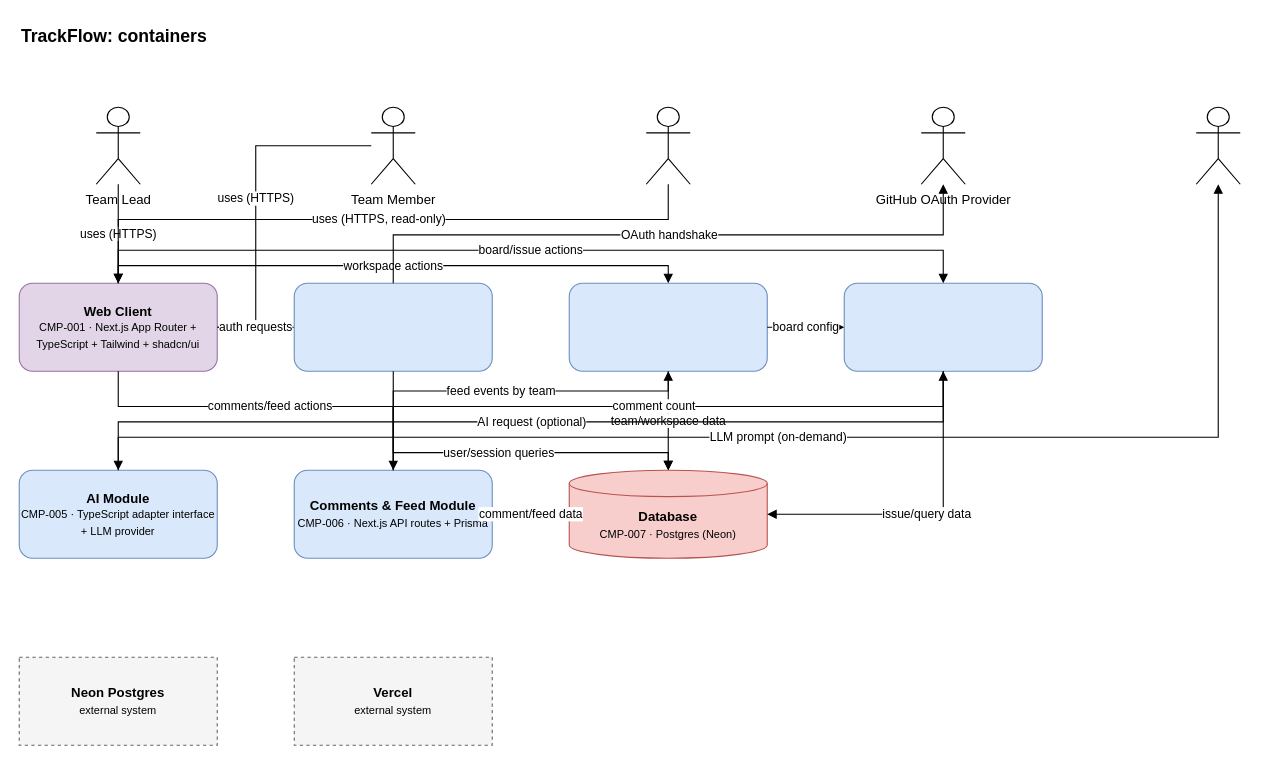
The diagram is 1276 pixels wide and 765 high, and some of its shapes have lost their labels. Here are the shapes that lost their labels. From the top down, the box of each, then its label:
(645, 106, 690, 184): Guest
(1195, 106, 1240, 184): LLM Provider
(293, 282, 492, 371): Auth Module CMP-002 · Auth.js (NextAuth) + TypeScript
(568, 282, 767, 371): Workspace Module CMP-003 · Next.js API routes + Prisma
(843, 282, 1042, 371): Board & Issue Module CMP-004 · Next.js API routes + Prisma
